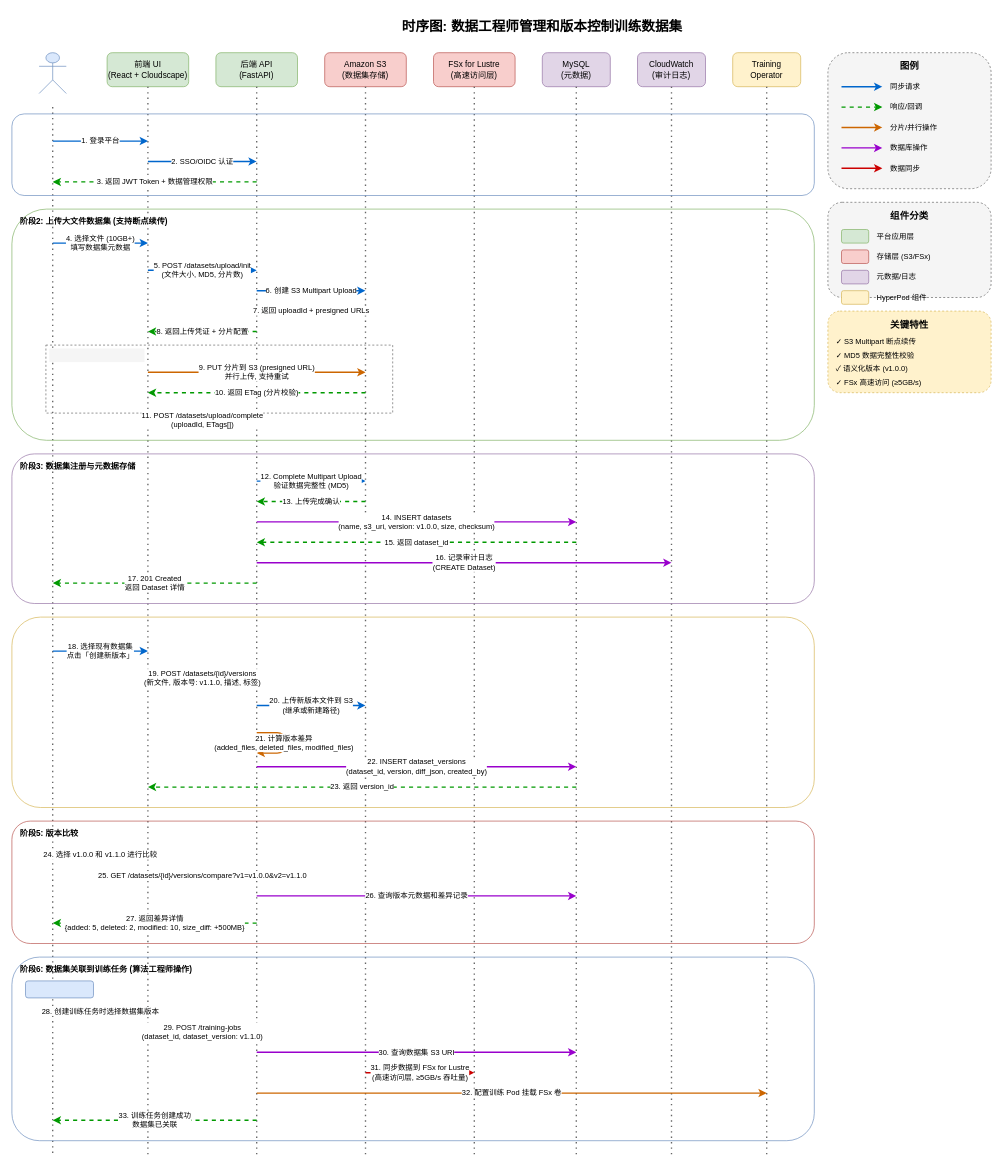
The diagram is 1003 pixels wide and 1167 high, and some of its shapes have lost their labels. Here are the shapes that lost their labels. From the top down, the centre of each, then its label:
the point at 52,73: 数据工程师
the point at 412,154: 阶段1: 身份认证
the point at 96,355: loop [每个分片 (100MB)]
the point at 412,712: 阶段4: 创建数据集新版本
the point at 59,989: 👤 算法工程师
